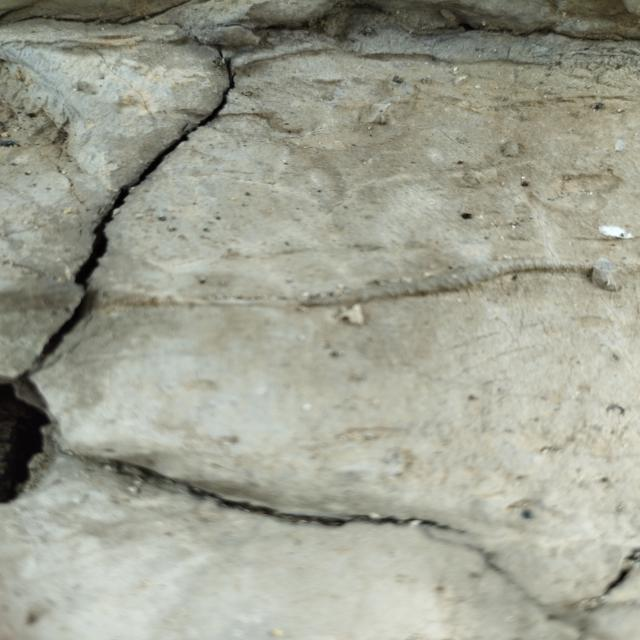branched cracks: (0, 33, 639, 632)
